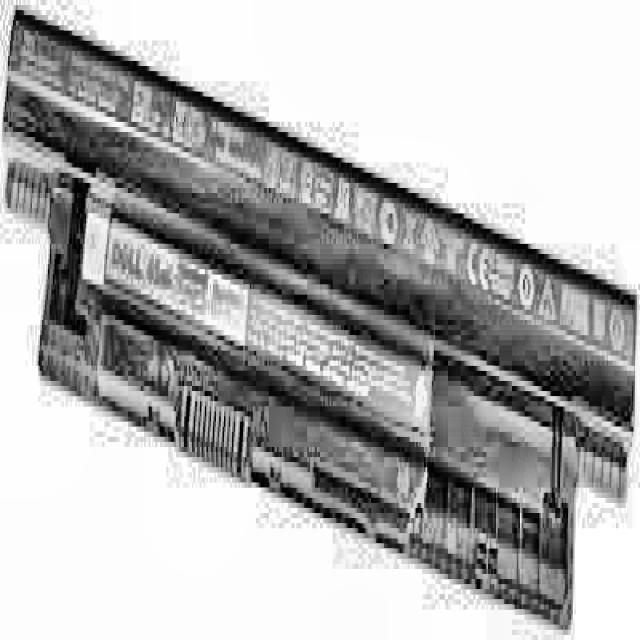Battery: (3, 10, 635, 640)
